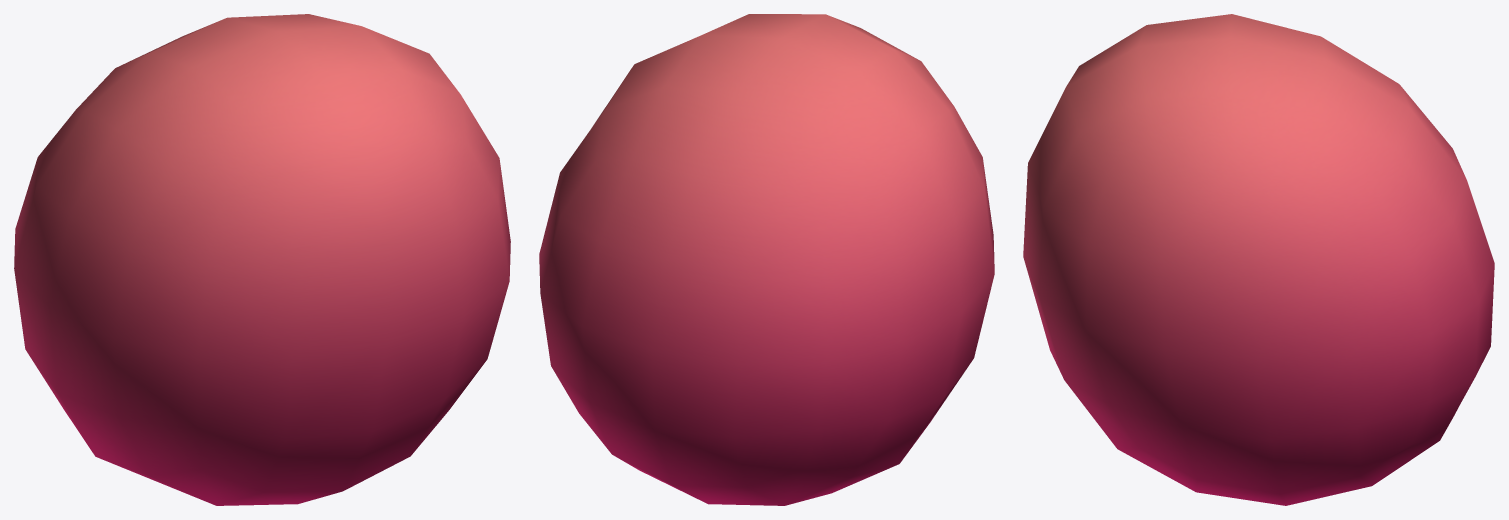
Rendered from SuspensionMarkDotOne.dae.
The picture shows the model from 3 angles, left to right: view 1: azimuth 30°, elevation 25°; view 2: azimuth 150°, elevation 25°; view 3: azimuth 270°, elevation 25°; orthographic projection. The views are drawn at different scales.
Parts seen in each view (by area): view 1: Cube_007; view 2: Cube_007; view 3: Cube_007.
Boxes of the visible parts, bbox=[...] form: Cube_007: bbox=[14, 14, 510, 505]; Cube_007: bbox=[539, 14, 994, 505]; Cube_007: bbox=[1023, 14, 1494, 505].
Bounding box in the file's own units: 0.5974 × 0.6061 × 0.6287.
1 material, 1 textured.
